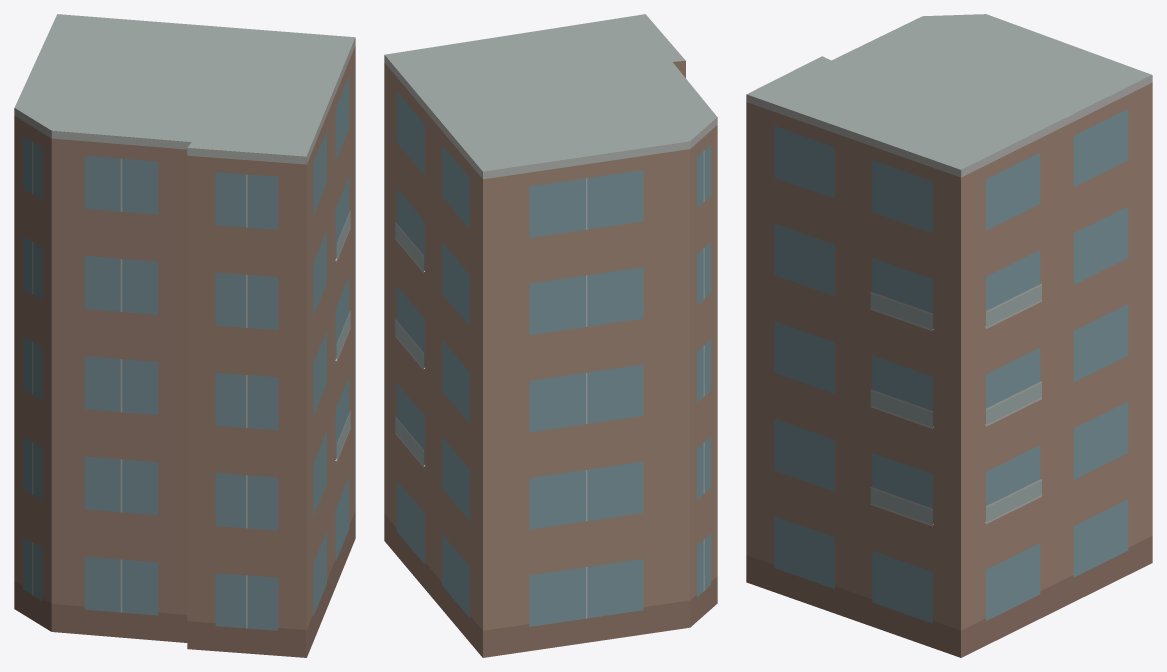
The model's file is survey-upis-32880289.glb.
3 views of the same model, side by side, from view 1: azimuth 30°, elevation 25°; view 2: azimuth 150°, elevation 25°; view 3: azimuth 270°, elevation 25° (orthographic). The views are drawn at different scales.
Visible parts, largest first — view 1: survey-upis-32880289.tmp; view 2: survey-upis-32880289.tmp; view 3: survey-upis-32880289.tmp.
Boxes of the visible parts, x1,y1,x2,y2 form: survey-upis-32880289.tmp: [14, 14, 355, 657]; survey-upis-32880289.tmp: [384, 14, 717, 657]; survey-upis-32880289.tmp: [746, 14, 1152, 657].
Bounding box in the file's own units: 10.7 × 15.6 × 11.78.
